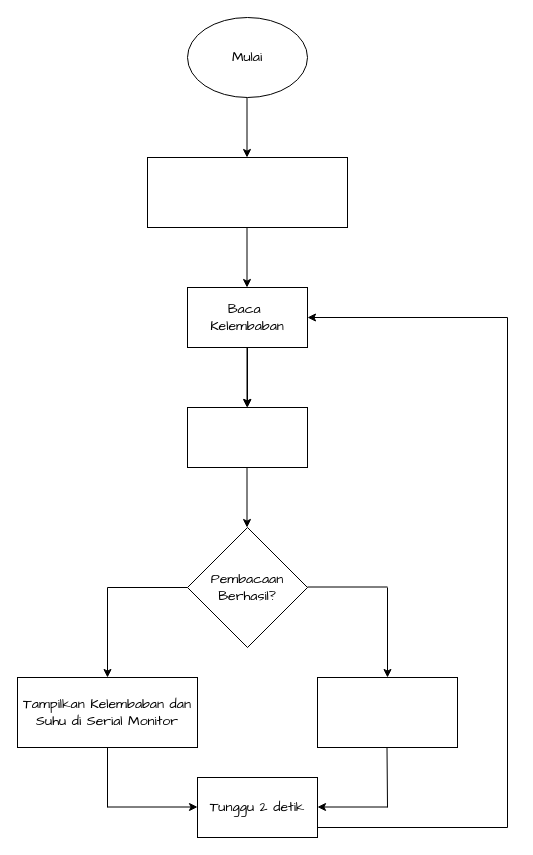
This 533x855 diagram has some shape labels left out. The shapes that lost their labels are listed below. From the top down, each one's centre as x and y in pixels, then its label:
At pixel 247 192: "Inisialisasi Serial Inisialisasi Sensor DHT".
At pixel 247 437: "Baca Suhu".
At pixel 387 712: "Tampilkan Pesan Kesalahan".
